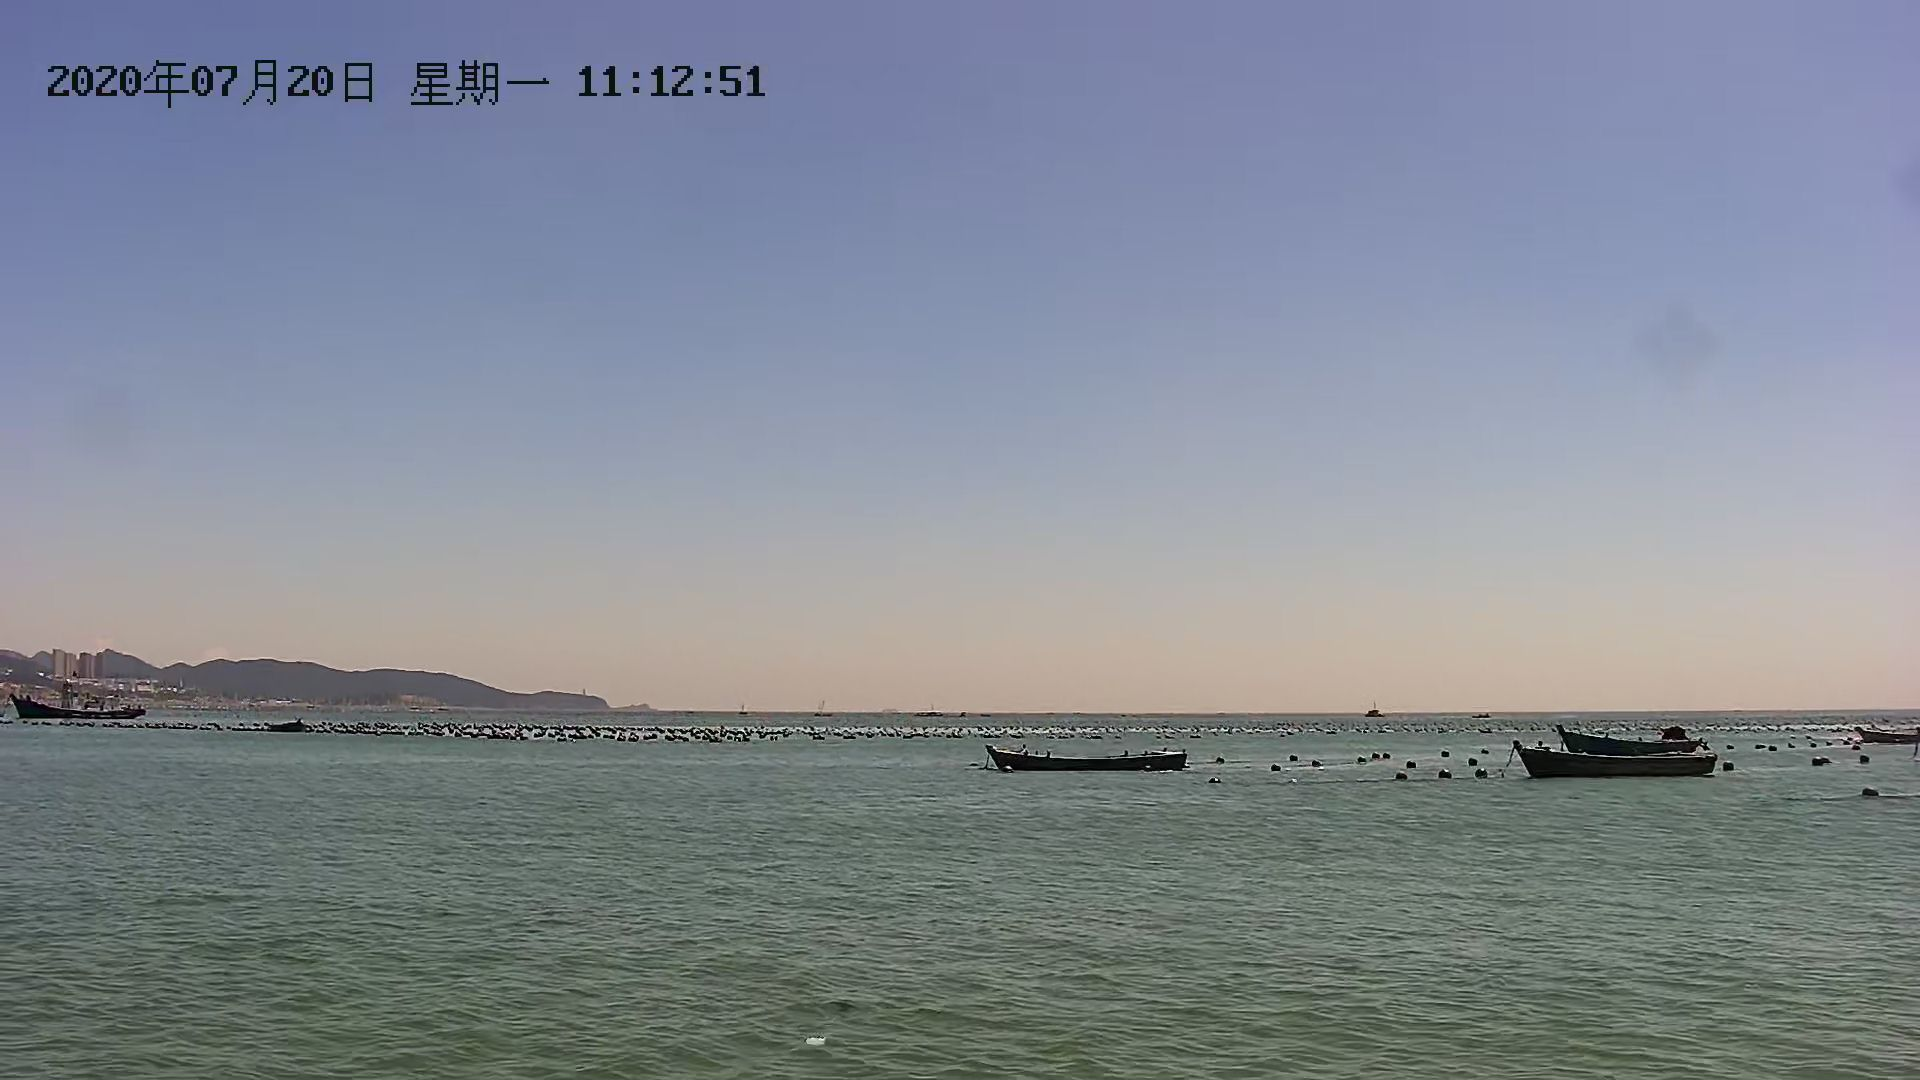boat: (1503, 738, 1726, 779), (971, 742, 1196, 775), (4, 699, 158, 731), (1552, 720, 1696, 750), (1855, 720, 1920, 752)
rock: (1, 654, 640, 731)
